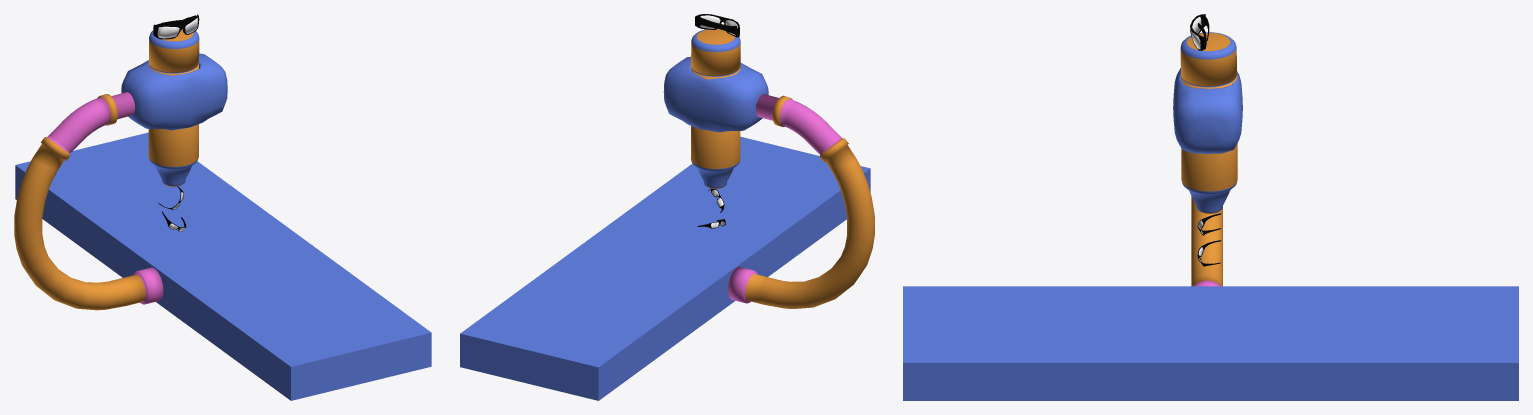
File: wathes_nachnies.fbx
3 renders of one model, left to right at view 1: azimuth 30°, elevation 25°; view 2: azimuth 150°, elevation 25°; view 3: azimuth 270°, elevation 25°, orthographic. The views are drawn at different scales.
Visible parts, largest first — view 1: Cube.001, Cylinder.001, Cube.004, Cylinder.005, lens_001_mesh; view 2: Cube.001, Cylinder.001, Cube.004, Cylinder.005, lens_001_mesh; view 3: Cube.001, Cylinder.005, Cube.004, Cylinder.001.
Boxes of the visible parts, box(x1,y1,x2,y2) form: Cube.001: box(15, 132, 431, 400); Cylinder.001: box(14, 92, 163, 310); Cube.004: box(121, 53, 227, 130); Cylinder.005: box(148, 25, 199, 186); lens_001_mesh: box(153, 14, 199, 39); Cube.001: box(460, 136, 870, 400); Cylinder.001: box(728, 94, 874, 308); Cube.004: box(663, 56, 768, 132); Cylinder.005: box(691, 28, 740, 188); lens_001_mesh: box(695, 14, 739, 37); Cube.001: box(903, 286, 1518, 400); Cylinder.005: box(1180, 32, 1237, 213); Cube.004: box(1173, 68, 1242, 153); Cylinder.001: box(1191, 196, 1222, 286).
Bounding box in the file's own units: 1252 × 1191 × 2142.
